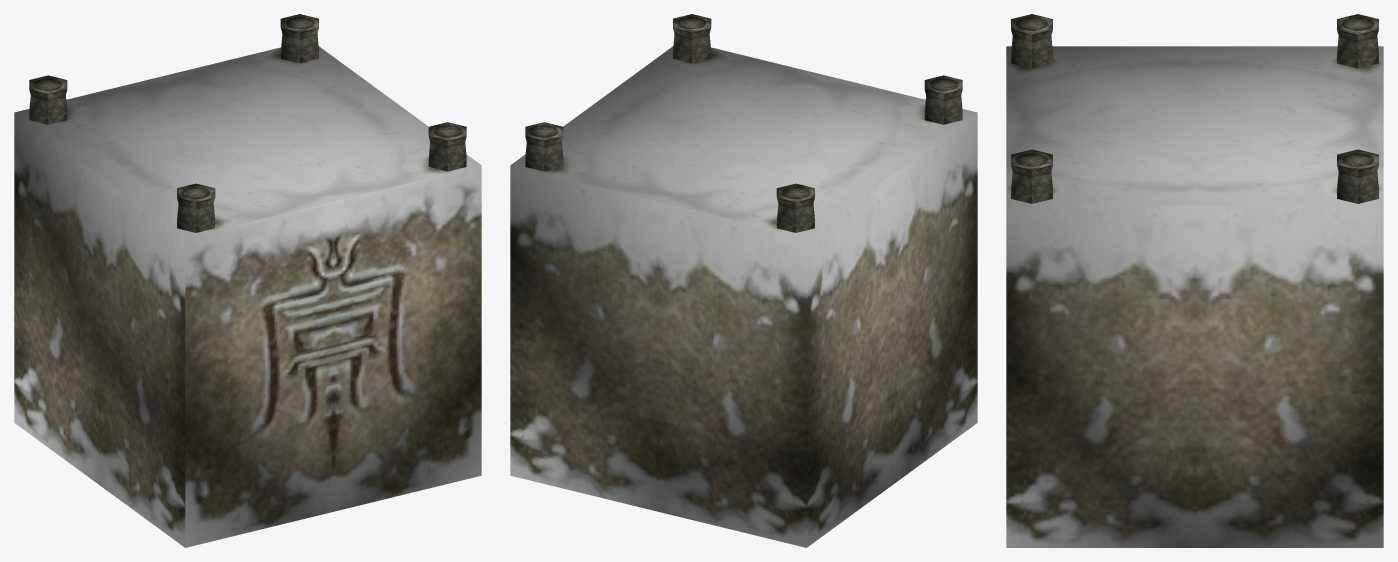
Rendered from landmark_grandstone02.fbx.
3 views of the same model, side by side, from view 1: azimuth 30°, elevation 25°; view 2: azimuth 150°, elevation 25°; view 3: azimuth 270°, elevation 25° (orthographic). The views are drawn at different scales.
Visible parts, largest first — view 1: Box02; view 2: Box02; view 3: Box02.
Part boxes in pixels (x1,y1,x2,y2): Box02: (14,14,481,547); Box02: (510,14,977,547); Box02: (1006,14,1383,547).
Bounding box in the file's own units: 4.74 × 5.21 × 4.74.
